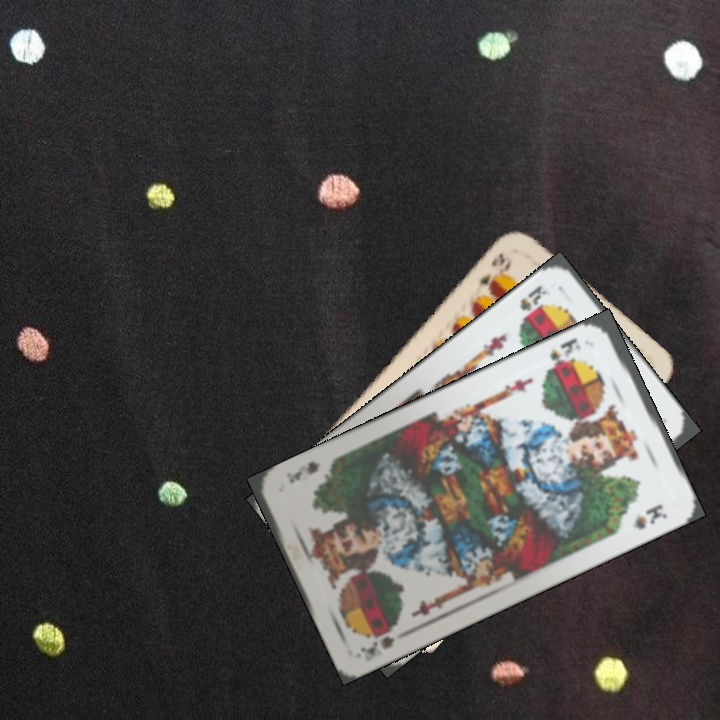E10: (471, 248, 515, 295)
SK: (356, 620, 402, 658), (543, 333, 583, 373), (515, 281, 549, 314)
